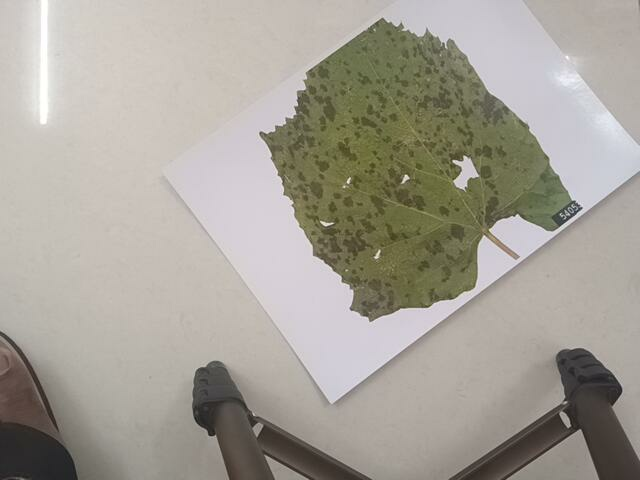Grape_Blight_Leaf: (236, 15, 607, 327)
